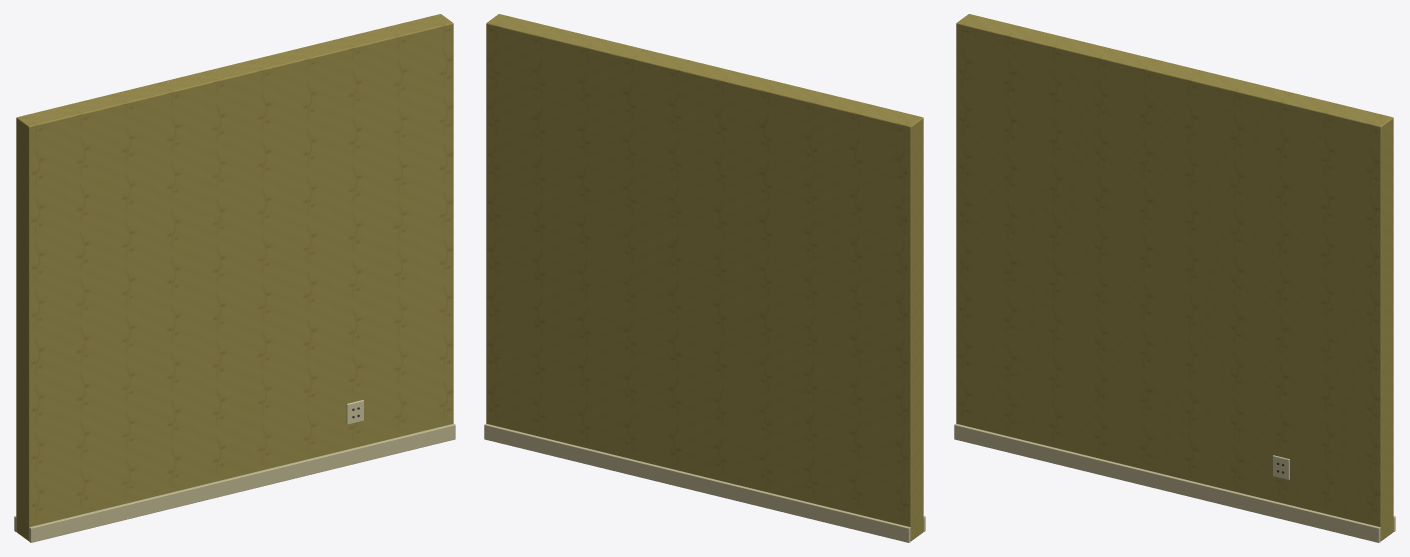
File: office_wall.glb
3 views of the same model, side by side, from view 1: azimuth 30°, elevation 25°; view 2: azimuth 150°, elevation 25°; view 3: azimuth 330°, elevation 25° (orthographic).
Parts seen in each view (by area): view 1: WallBody, BaseboardFront; view 2: WallBody, BaseboardBack; view 3: WallBody, BaseboardFront.
Boxes of the visible parts, x1,y1,x2,y2 form: WallBody: (16,14,453,540); BaseboardFront: (29,423,455,542); WallBody: (486,14,923,540); BaseboardBack: (484,423,910,542); WallBody: (956,14,1393,540); BaseboardFront: (954,423,1380,542).
Size of what is drawn, in the model's own units: 3 by 2.8 by 0.204.
Materials: 4 (1 with a texture image).
